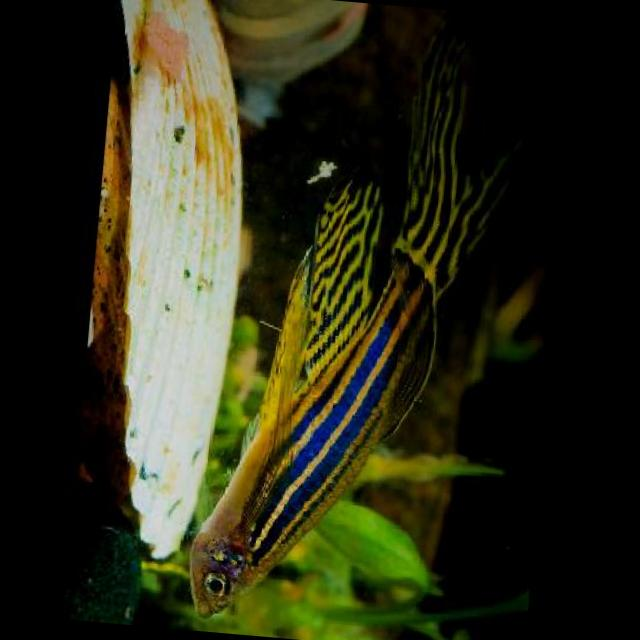ZebraFish: (183, 254, 438, 636)
